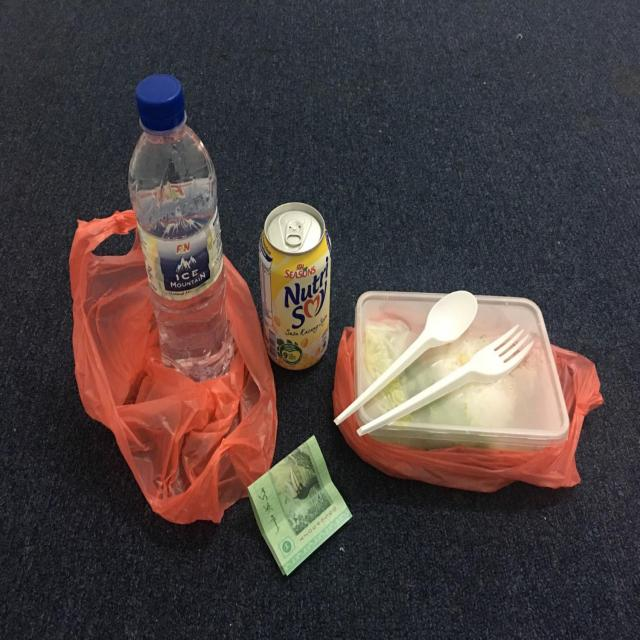bottle: (121, 71, 238, 396)
